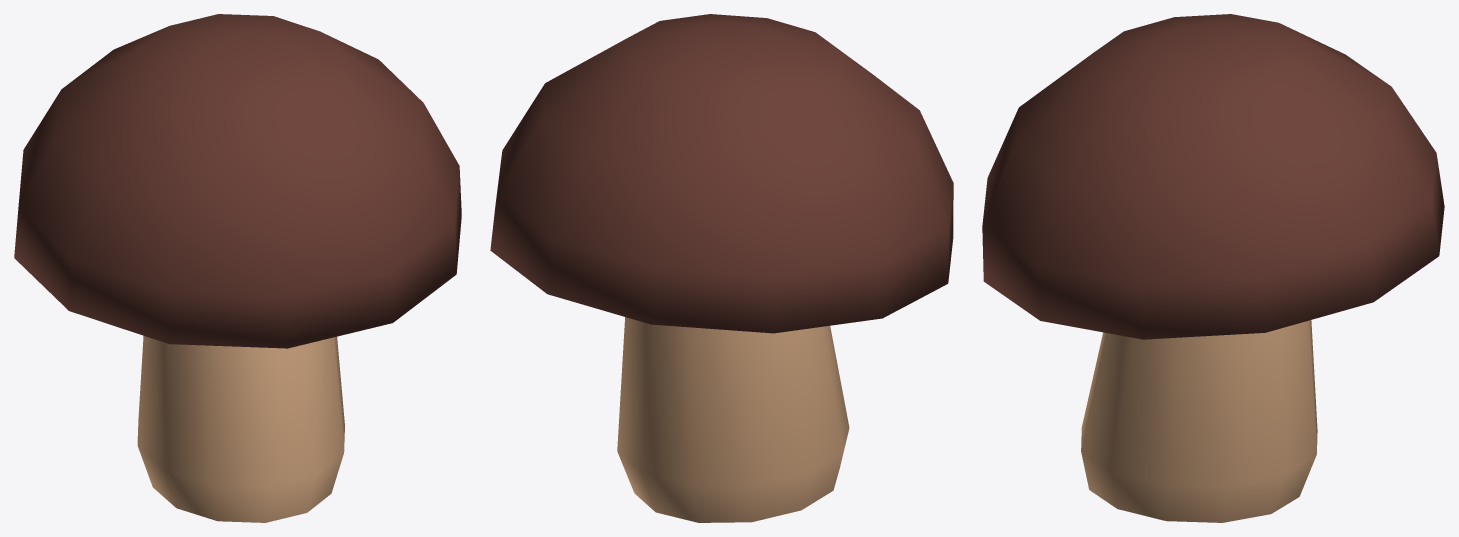
File: decoMushroom_single2.fbx
3 renders of one model, left to right at view 1: azimuth 30°, elevation 25°; view 2: azimuth 150°, elevation 25°; view 3: azimuth 270°, elevation 25°, orthographic. The views are drawn at different scales.
Visible parts, largest first — view 1: deco_mushroom_single2; view 2: deco_mushroom_single2; view 3: deco_mushroom_single2.
Boxes of the visible parts, x1,y1,x2,y2 form: deco_mushroom_single2: (14, 14, 461, 522); deco_mushroom_single2: (490, 14, 953, 522); deco_mushroom_single2: (982, 14, 1444, 522).
Bounding box in the file's own units: 71.63 × 71.67 × 75.81.
